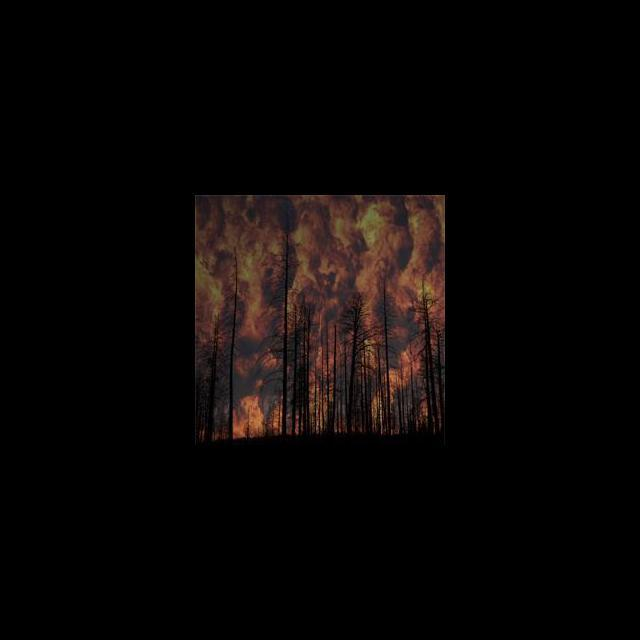Fire: (196, 195, 444, 437)
